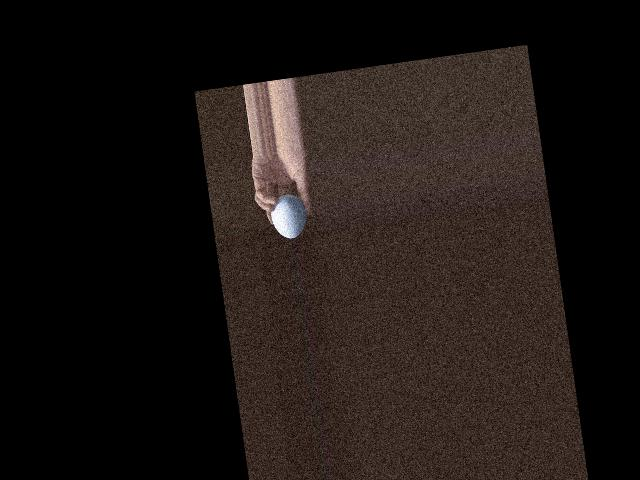egg: (267, 192, 308, 241)
